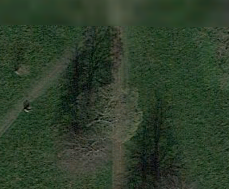tree: (41, 116, 124, 183)
